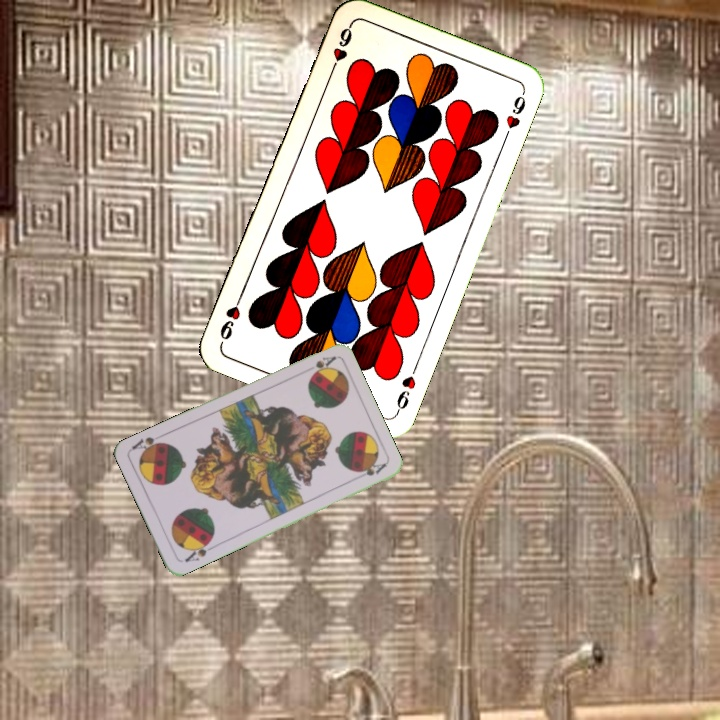H9: (325, 21, 355, 77), (392, 359, 421, 415)
SA: (181, 536, 217, 565), (299, 352, 338, 378)
